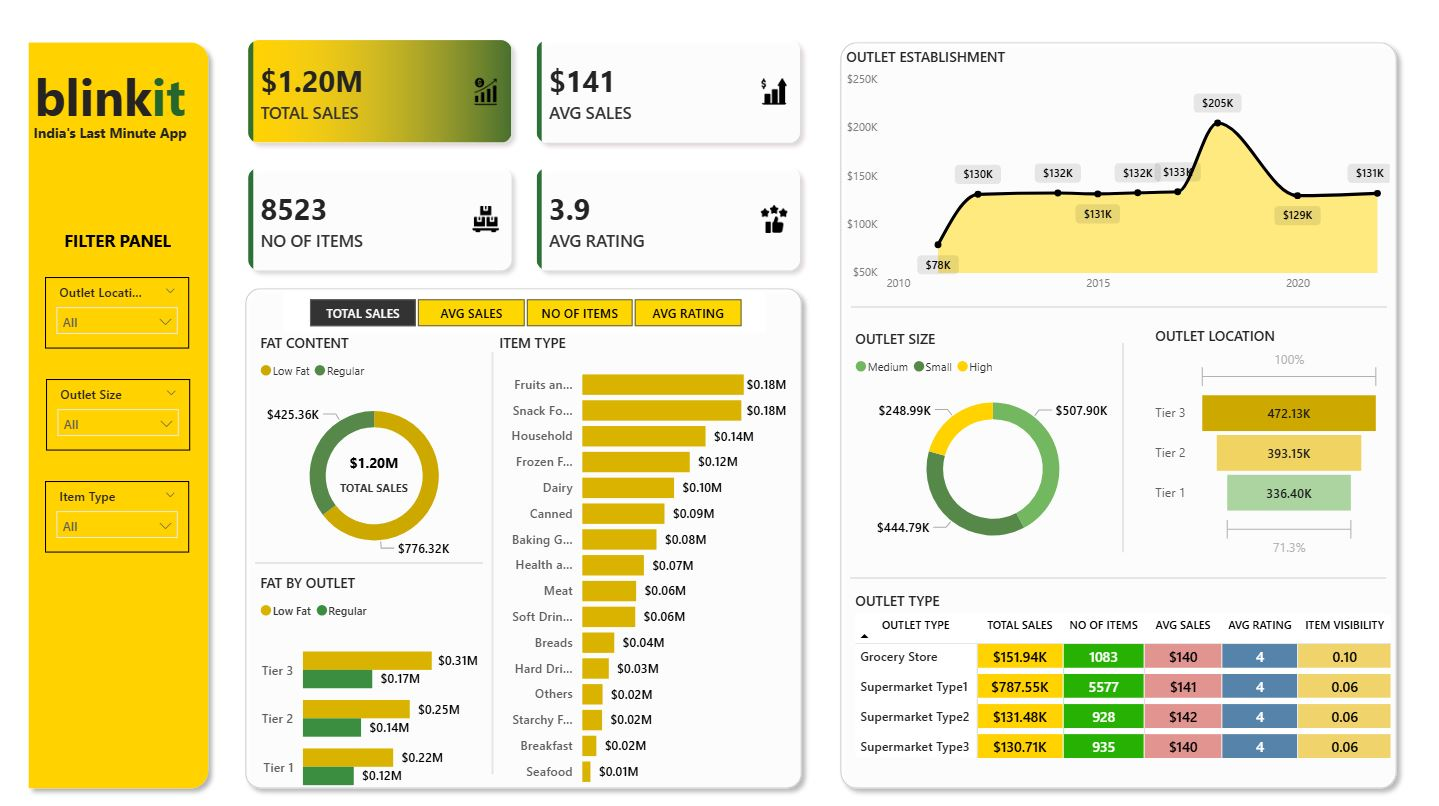

Layout of this report page (visuals, bound fields, positions):
{"tool":"powerbi","page":{"name":"Page 1","canvas":[1400,800],"ordinal":0},"visuals":[{"type":"shape","box":[29.8,50,191.5,737.2],"z":0},{"type":"textbox","box":[39.6,72.9,156.2,81.2],"z":1000},{"type":"textbox","box":[29.8,131.9,175.5,30.9],"z":2000},{"type":"cardVisual","fields":{"Data":["BlinkIT Grocery Data.TOTAL SALES","BlinkIT Grocery Data.AVG SALES","BlinkIT Grocery Data.NO OF ITEMS","BlinkIT Grocery Data.AVG RATING"]},"box":[221.3,27.7,591.5,281.9],"z":3000},{"type":"shape","box":[239.4,287.2,554.3,500],"z":4000},{"type":"donutChart","title":"FAT CONTENT","fields":{"Y":["BlinkIT Grocery Data.TOTAL SALES"],"Category":["BlinkIT Grocery Data.Item Fat Content"]},"box":[257.4,339.4,229.8,230.9],"z":5000},{"type":"slicer","fields":{"Values":["Matrics.Matrics"]},"box":[284,300,466,39.4],"z":6000},{"type":"card","fields":{"Values":["BlinkIT Grocery Data.TOTAL SALES"]},"box":[326.6,447.9,90.4,52.1],"z":7000},{"type":"clusteredBarChart","title":"FAT BY OUTLET","fields":{"Y":["BlinkIT Grocery Data.TOTAL SALES"],"Category":["BlinkIT Grocery Data.Outlet Location Type"],"Series":["BlinkIT Grocery Data.Item Fat Content"]},"box":[257.4,570.2,220.2,229.8],"z":8000},{"type":"shape","box":[257.4,551.1,220.2,19.1],"z":9000},{"type":"shape","box":[425.5,357.4,122.3,407.4],"z":10000},{"type":"barChart","title":"ITEM TYPE","fields":{"Y":["BlinkIT Grocery Data.TOTAL SALES"],"Category":["BlinkIT Grocery Data.Item Type"]},"box":[487.2,339.4,287.2,447.9],"z":11000},{"type":"shape","box":[812.8,50,554.3,737.2],"z":12000},{"type":"lineChart","title":"OUTLET ESTABLISHMENT","fields":{"Y":["BlinkIT Grocery Data.TOTAL SALES"],"Category":["BlinkIT Grocery Data.Outlet Establishment Year"]},"box":[822.3,63.8,534,245.7],"z":13000},{"type":"shape","box":[831.9,309.6,517,9.6],"z":14000},{"type":"donutChart","title":"OUTLET SIZE","fields":{"Y":["BlinkIT Grocery Data.TOTAL SALES"],"Category":["BlinkIT Grocery Data.Outlet Size"]},"box":[830.9,335.1,275.5,225.5],"z":15000},{"type":"shape","box":[1068.1,348.9,52.1,202.1],"z":16000},{"type":"funnel","title":"OUTLET LOCATION","fields":{"Y":["Sum(BlinkIT Grocery Data.Sales)"],"Category":["BlinkIT Grocery Data.Outlet Location Type"]},"box":[1120.2,333,227.7,227.7],"z":17000},{"type":"shape","box":[830.9,570.2,517,9.6],"z":18000},{"type":"pivotTable","title":"OUTLET TYPE","fields":{"Rows":["BlinkIT Grocery Data.Outlet Type"],"Values":["BlinkIT Grocery Data.TOTAL SALES","BlinkIT Grocery Data.NO OF ITEMS","BlinkIT Grocery Data.AVG SALES","BlinkIT Grocery Data.AVG RATING","Avg(BlinkIT Grocery Data.Item Visibility)"]},"box":[830.9,588.3,534,176.6],"z":19000},{"type":"slicer","fields":{"Values":["BlinkIT Grocery Data.Outlet Location Type"]},"box":[55.3,285.1,139.4,69.1],"z":19001},{"type":"slicer","fields":{"Values":["BlinkIT Grocery Data.Outlet Size"]},"box":[56.4,384,139.4,69.1],"z":19002},{"type":"slicer","fields":{"Values":["BlinkIT Grocery Data.Item Type"]},"box":[55.3,481.9,139.4,69.1],"z":19003},{"type":"shape","box":[72.3,226.6,105.3,47.9],"z":19004}]}

Visuals, with their boxes in screenshot pixels (x1, y1, x2, y2), scaled from the page's 1400x800 canvas onto the 1439x806 screenshot:
shape: box(31, 50, 227, 793)
textbox: box(41, 73, 201, 155)
textbox: box(31, 133, 211, 164)
cardVisual - BlinkIT Grocery Data.TOTAL SALES x BlinkIT Grocery Data.AVG SALES: box(227, 28, 835, 312)
shape: box(246, 289, 816, 793)
"FAT CONTENT" donutChart: box(265, 342, 501, 575)
slicer - Matrics.Matrics: box(292, 302, 771, 342)
card - BlinkIT Grocery Data.TOTAL SALES: box(336, 451, 429, 504)
"FAT BY OUTLET" clusteredBarChart: box(265, 574, 491, 805)
shape: box(265, 555, 491, 574)
shape: box(437, 360, 563, 771)
"ITEM TYPE" barChart: box(501, 342, 796, 793)
shape: box(835, 50, 1405, 793)
"OUTLET ESTABLISHMENT" lineChart: box(845, 64, 1394, 312)
shape: box(855, 312, 1386, 322)
"OUTLET SIZE" donutChart: box(854, 338, 1137, 565)
shape: box(1098, 352, 1151, 555)
"OUTLET LOCATION" funnel: box(1151, 335, 1385, 565)
shape: box(854, 574, 1385, 584)
"OUTLET TYPE" pivotTable: box(854, 593, 1403, 771)
slicer - BlinkIT Grocery Data.Outlet Location Type: box(57, 287, 200, 357)
slicer - BlinkIT Grocery Data.Outlet Size: box(58, 387, 201, 456)
slicer - BlinkIT Grocery Data.Item Type: box(57, 486, 200, 555)
shape: box(74, 228, 183, 277)
